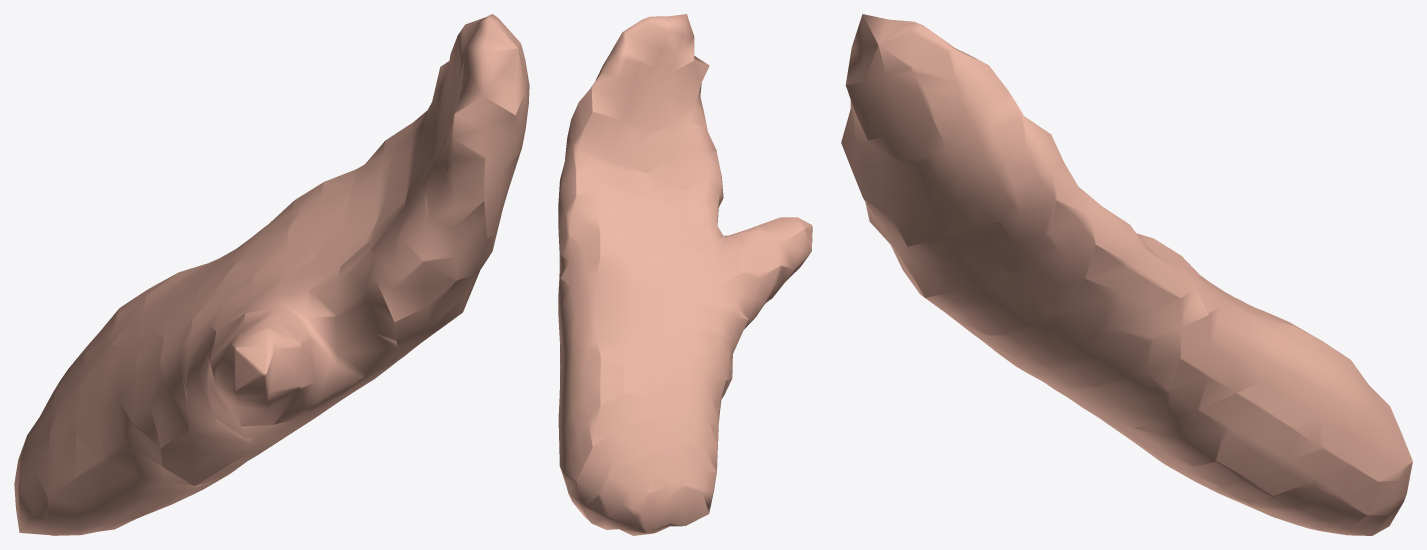
Rendered from right-hand.obj.
3 views of the same model, side by side, from view 1: azimuth 30°, elevation 25°; view 2: azimuth 150°, elevation 25°; view 3: azimuth 270°, elevation 25° (orthographic). The views are drawn at different scales.
Visible parts, largest first — view 1: Layer_1; view 2: Layer_1; view 3: Layer_1.
Part boxes in pixels (x1=…): Layer_1: x1=14, y1=14, x2=529, y2=535; Layer_1: x1=558, y1=14, x2=812, y2=535; Layer_1: x1=841, y1=14, x2=1412, y2=535.
Bounding box in the file's own units: 11.71 × 19.83 × 17.21.
Materials: 1 (1 with a texture image).
